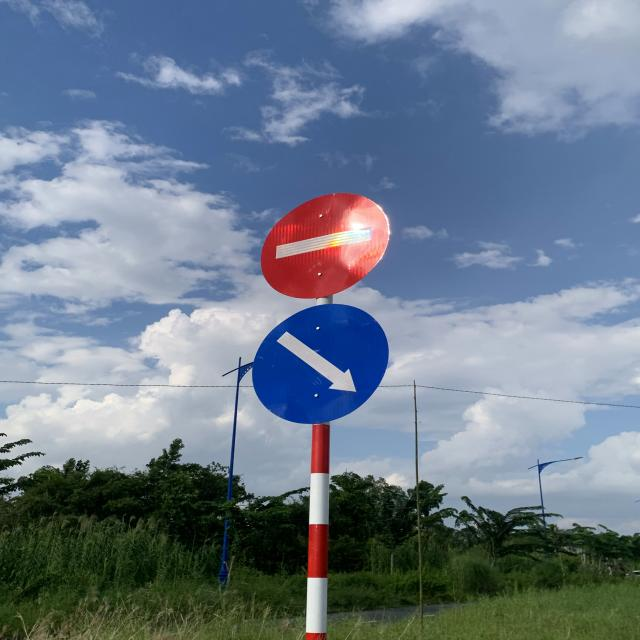Cam_Di_Nguoc_Chieu: (263, 190, 389, 300)
Chi_Huong_Di_Phai: (250, 304, 392, 426)
